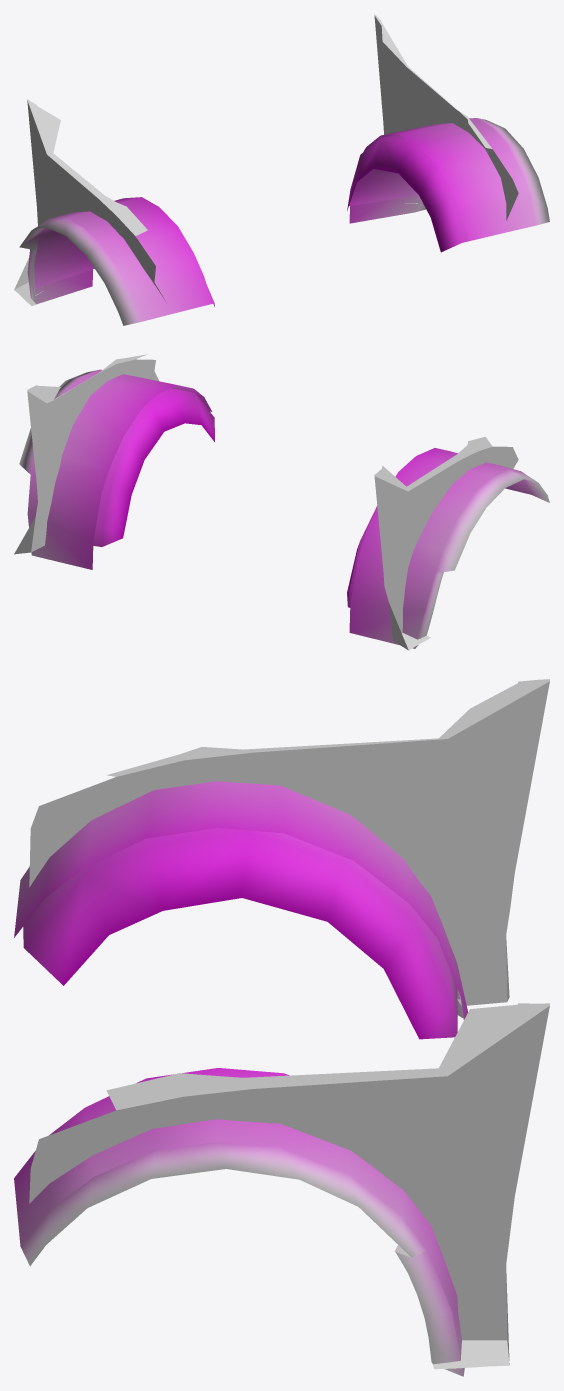
Rendered from Car_Mini_CountrymanJCW_2017_FendersChassisF_SetD.fbx.
3 renders of one model, top to bottom at view 1: azimuth 30°, elevation 25°; view 2: azimuth 150°, elevation 25°; view 3: azimuth 270°, elevation 25°, orthographic. The views are drawn at different scales.
Visible parts, largest first — view 1: FendersChassisF 6; view 2: FendersChassisF 6; view 3: FendersChassisF 6.
Boxes of the visible parts, bbox=[...] form: FendersChassisF 6: bbox=[14, 14, 549, 325]; FendersChassisF 6: bbox=[14, 354, 549, 650]; FendersChassisF 6: bbox=[14, 679, 549, 1376].
Bounding box in the file's own units: 1.9 × 0.7685 × 1.05.
